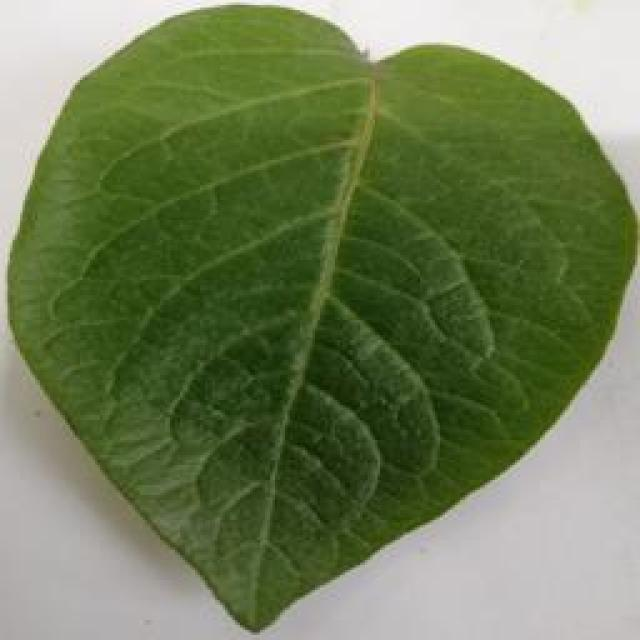Potato_Healthy: (3, 11, 627, 632)
